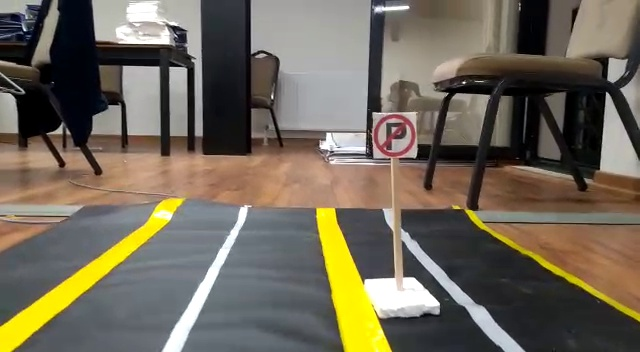park_yapilmaz: (374, 112, 416, 159)
